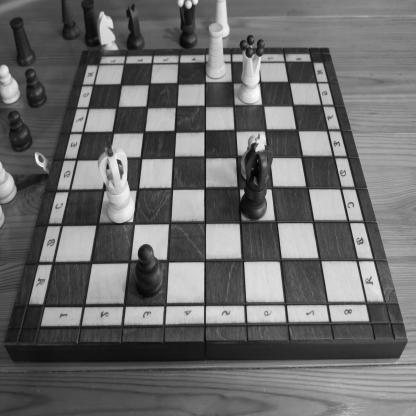black-bishop: (60, 0, 80, 39)
black-king: (239, 131, 274, 221)
black-knight: (125, 3, 145, 49)
black-pawn: (134, 242, 164, 300), (7, 110, 33, 154), (25, 68, 47, 110)
black-queen: (178, 0, 199, 49)
black-rook: (9, 17, 36, 68), (80, 0, 100, 46)
white-king: (97, 133, 136, 225)
white-knight: (97, 11, 119, 51)
white-pawn: (240, 135, 265, 185), (1, 63, 21, 106), (0, 160, 18, 206)
white-queen: (238, 33, 266, 105)
white-rook: (204, 22, 226, 80), (211, 0, 231, 40)
